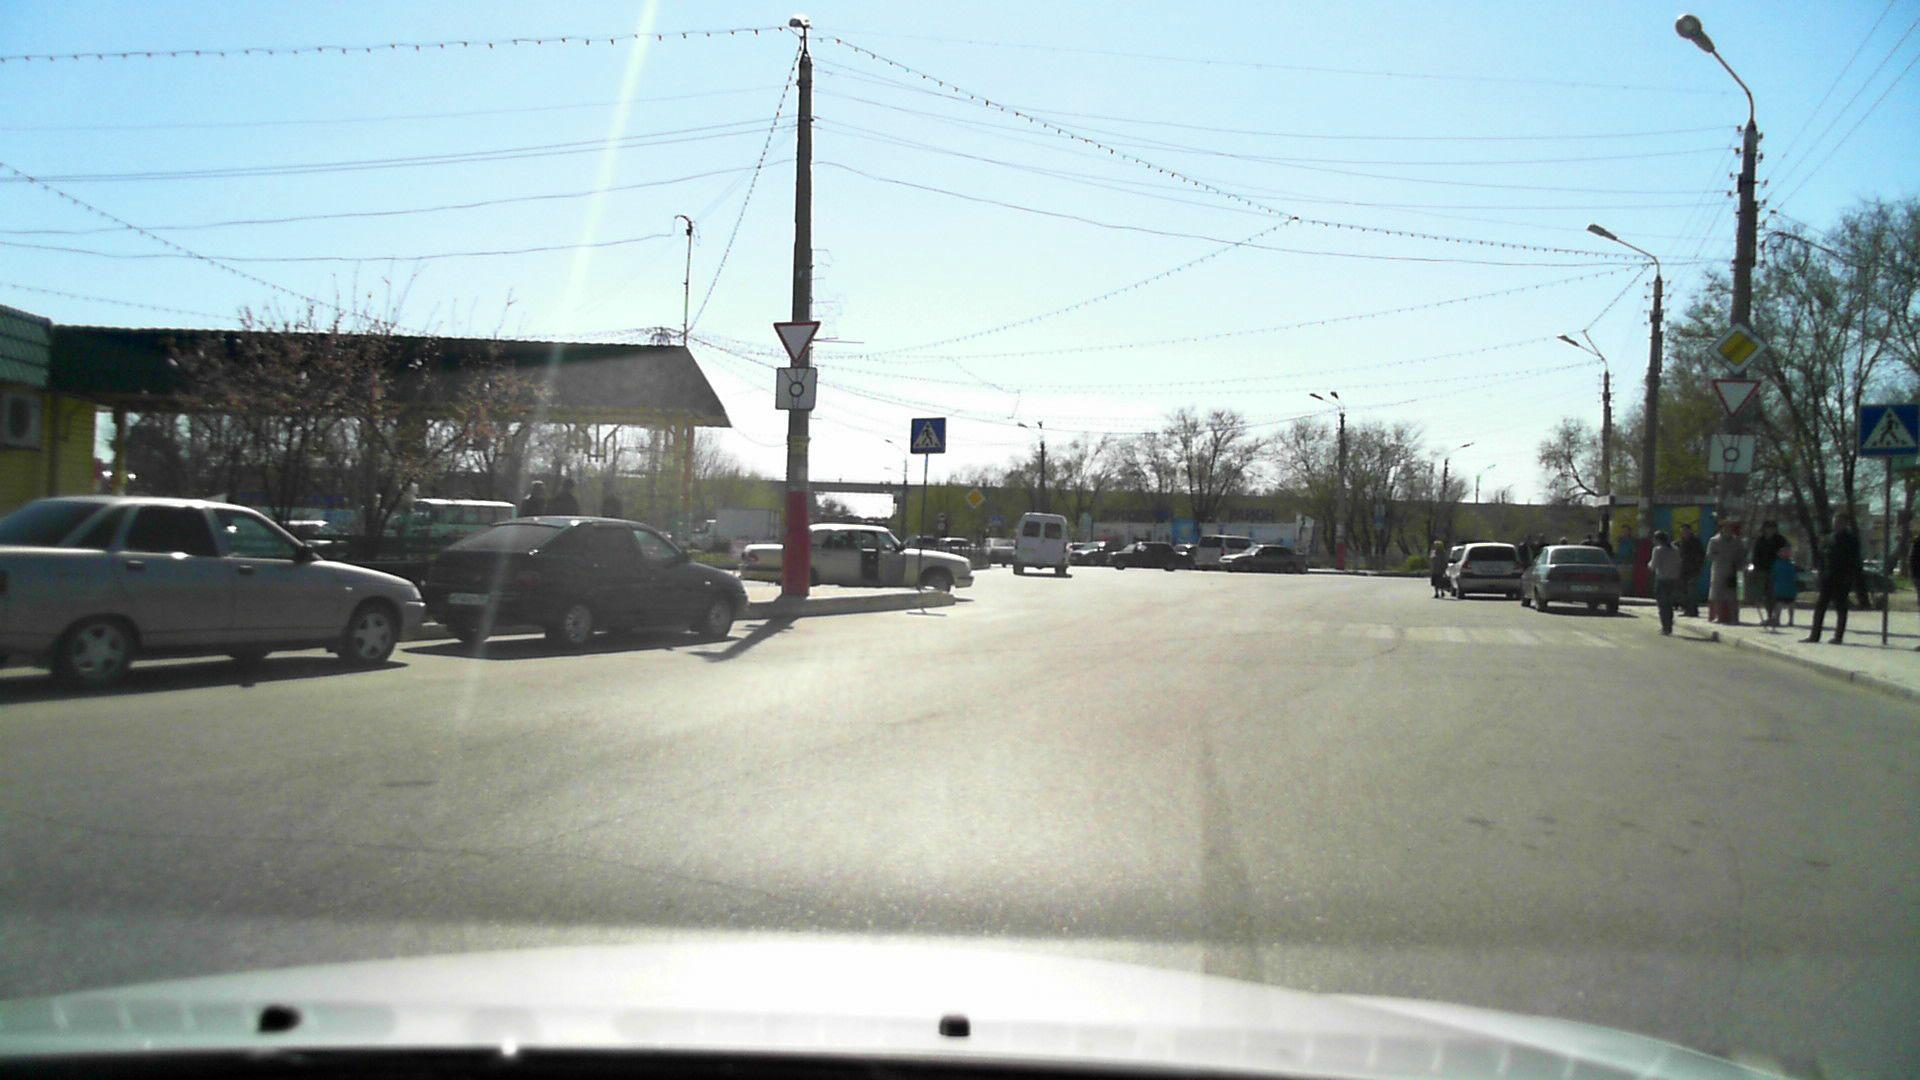2_1: (967, 487, 981, 508)
2_2: (1709, 326, 1763, 375)
2_4: (1712, 375, 1760, 415), (774, 320, 820, 361)
5_19_1: (1858, 406, 1920, 456)
5_19_2: (911, 419, 947, 452)
8_13: (1702, 429, 1755, 473), (777, 367, 819, 411)
